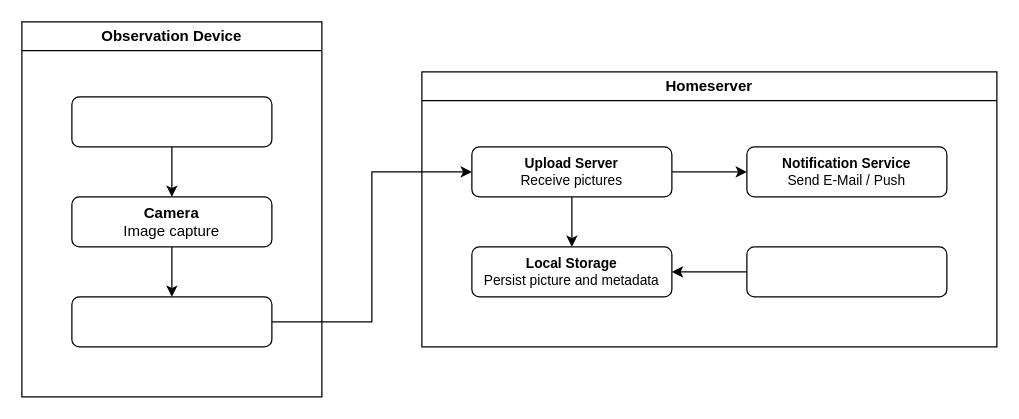
This 1019x419 diagram has some shape labels left out. Here are the shapes that lost their labels. From the top down, the centre of each, then its label:
the point at 171,121: PIR Sensor Motion detection
the point at 846,271: WebUI Dashboard Display and manage pictures
the point at 171,321: Wi-Fi Transmit picture
